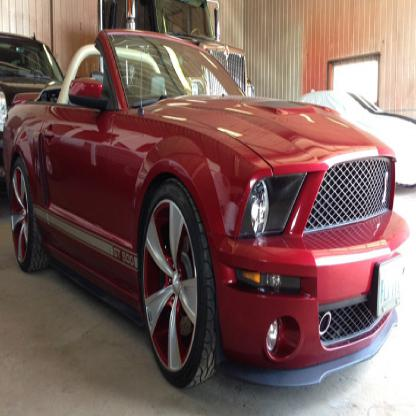Tire: (137, 172, 230, 392), (11, 142, 46, 271)
Wheel hub: (142, 197, 198, 376), (11, 170, 32, 267)
